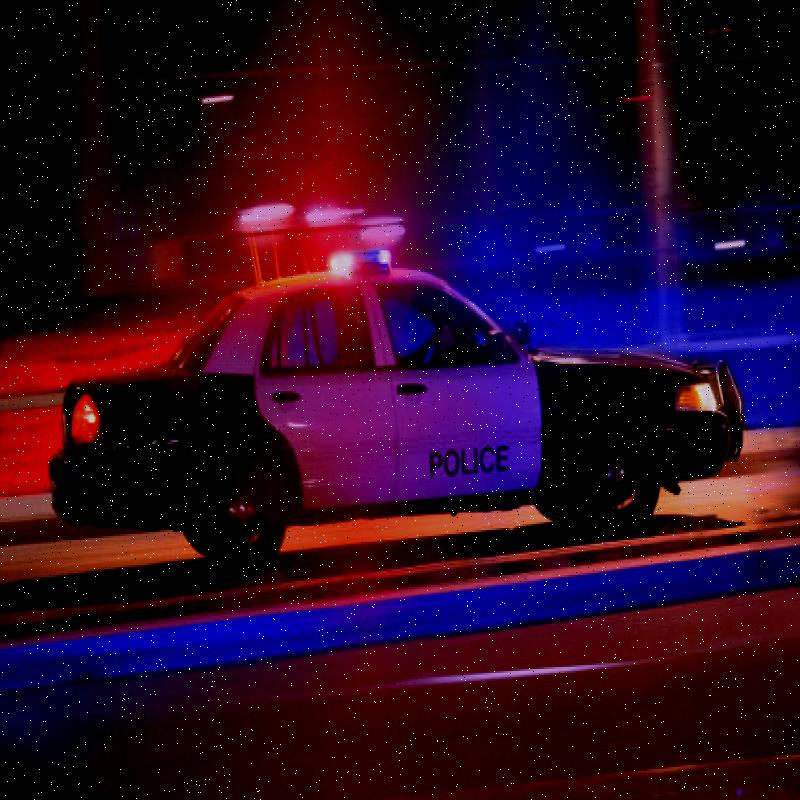AmbulanceSiren: (295, 217, 397, 298)
